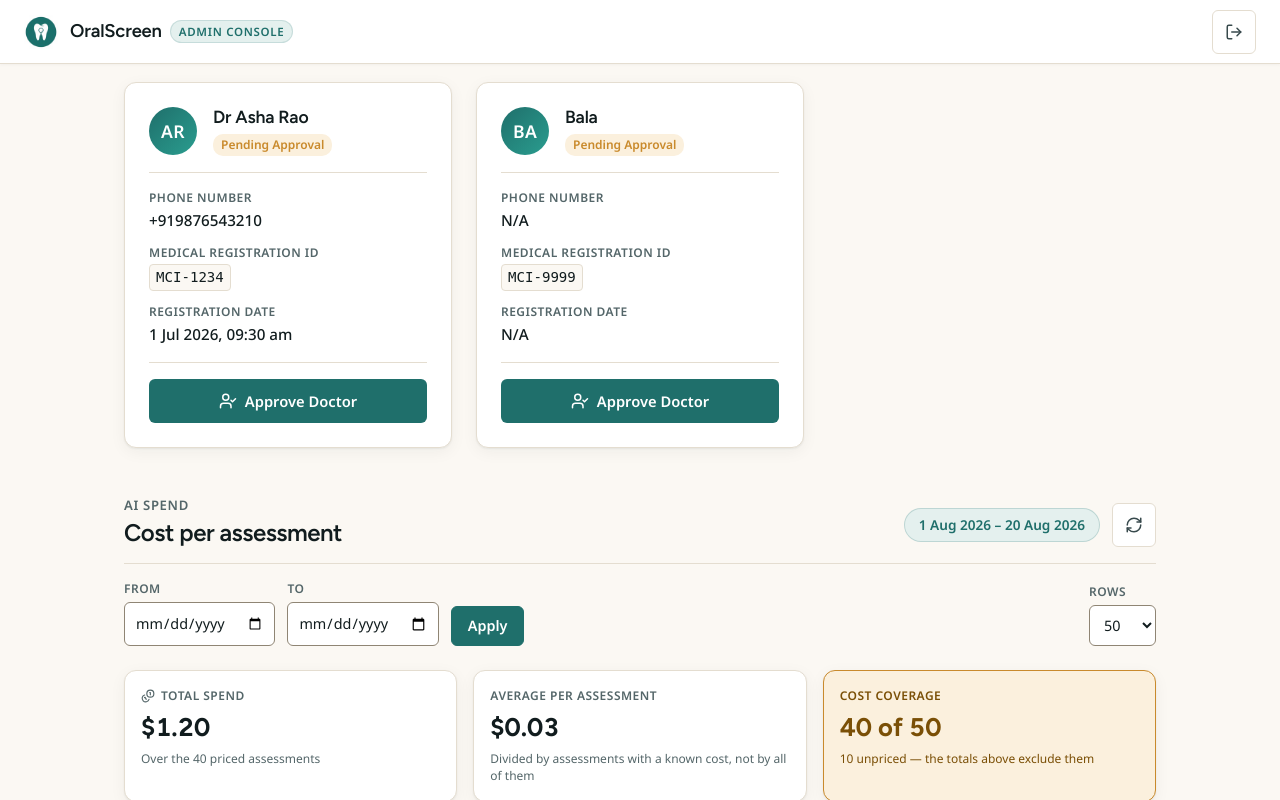
Test: approving a doctor › approves with the typed key and drops the card from the list
(page scrolled)
expect the heading "Dr Asha Rao" is shown: met, box x1=213 y1=106 x2=308 y2=127
Click the button with aria-label "Approve Dr Asha Rao".
click(288, 401)  # box x1=149 y1=379 x2=427 y2=423
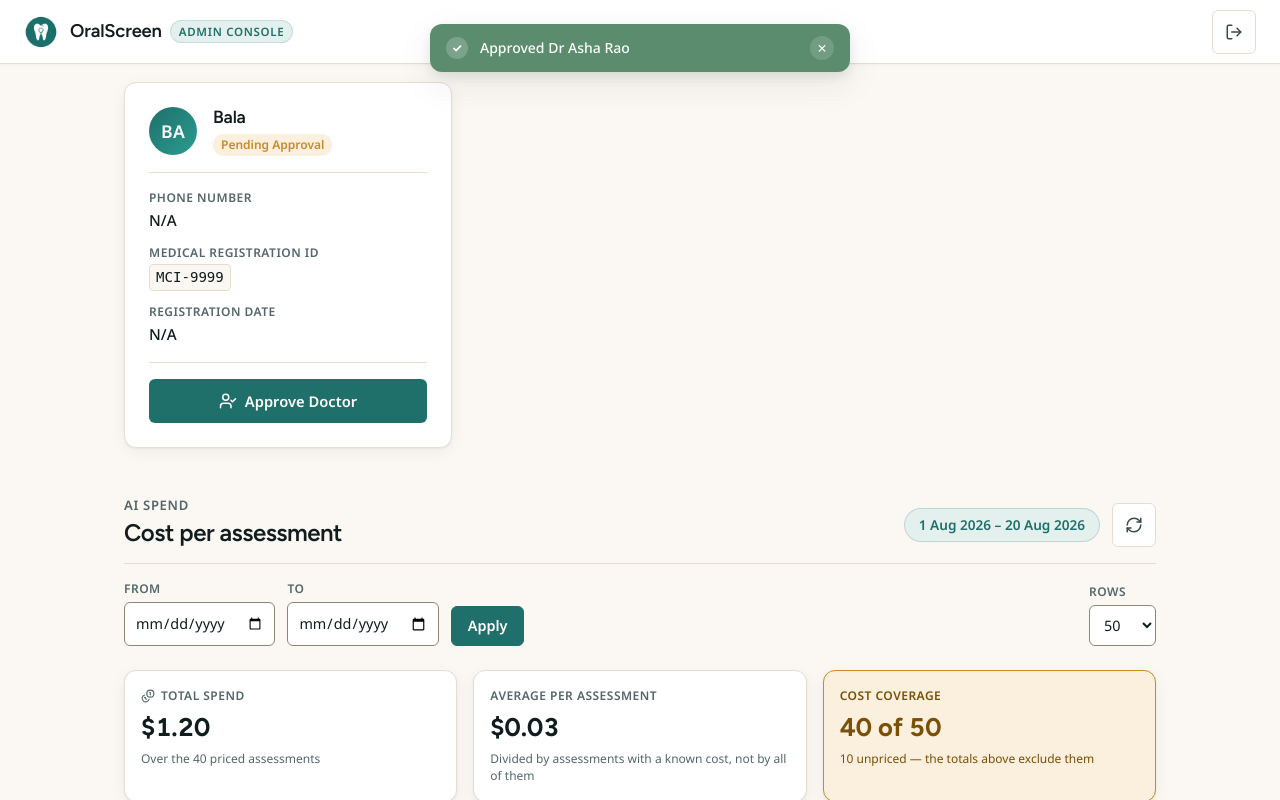
expect the heading "Bala" is shown: met, box x1=213 y1=106 x2=246 y2=127
expect the text "Approved Dr Asha Rao" is shown: met, box x1=480 y1=38 x2=630 y2=57
